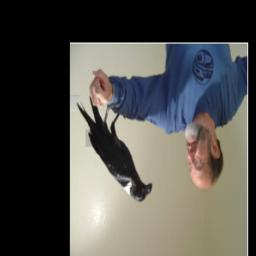Crow: (75, 96, 153, 206)
